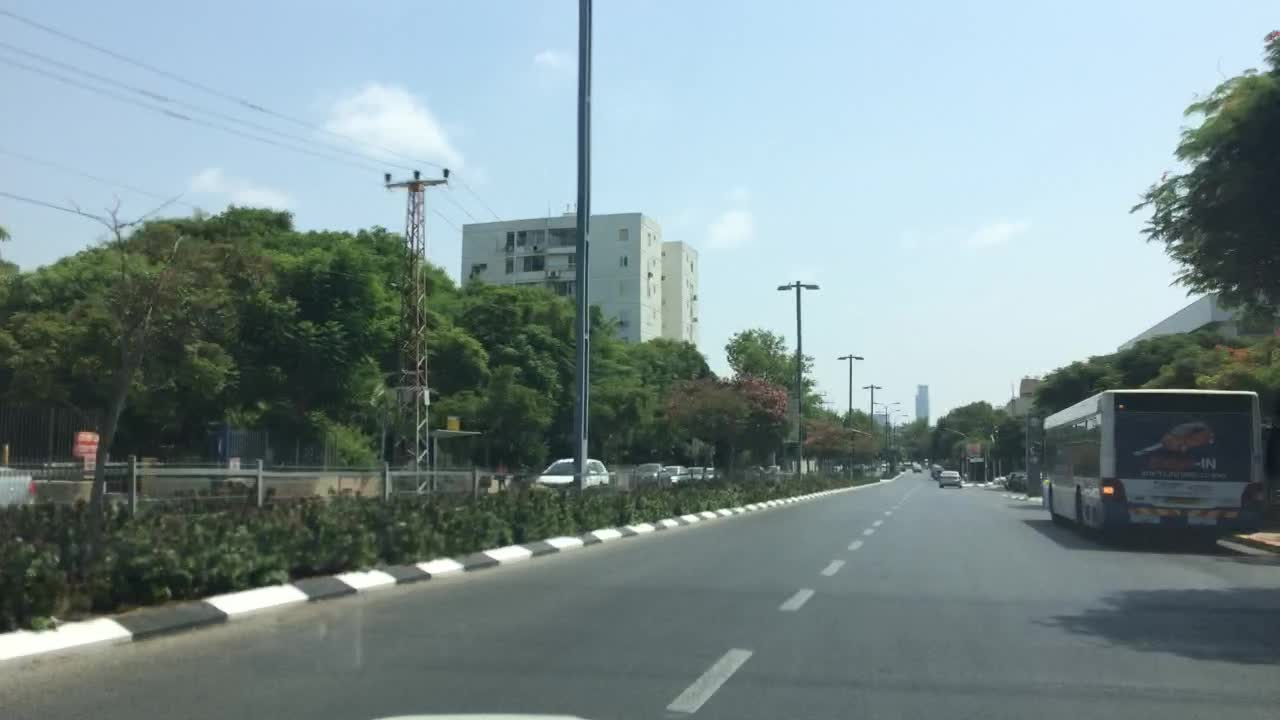bus: (1037, 387, 1269, 552)
car: (536, 456, 609, 491), (1, 467, 38, 510), (658, 464, 689, 489), (633, 461, 663, 486), (936, 470, 960, 490), (745, 464, 766, 480), (688, 465, 705, 483), (930, 465, 944, 480), (704, 466, 717, 480), (993, 475, 1009, 486), (910, 462, 920, 473), (895, 462, 906, 471), (879, 462, 887, 472), (865, 465, 876, 472)
traffic sign: (73, 430, 98, 456), (969, 457, 984, 462)
